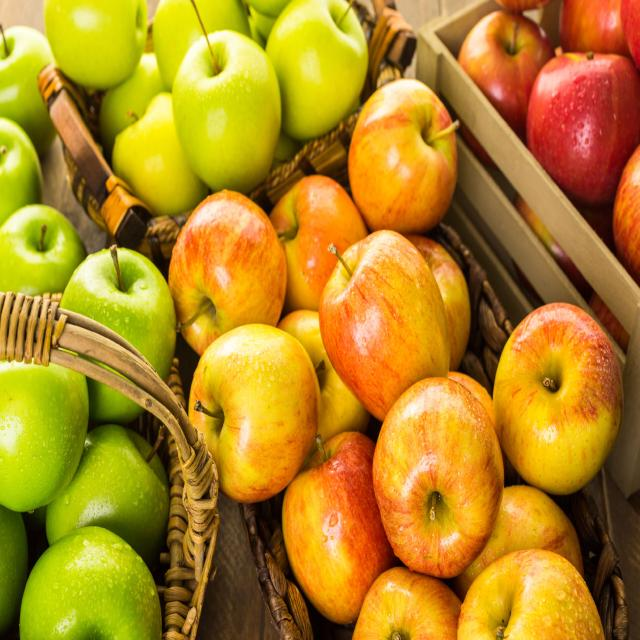Green Apple: (1, 290, 91, 511), (171, 23, 283, 192), (17, 526, 165, 640), (43, 1, 143, 90)
Red Apple: (371, 365, 506, 574), (492, 301, 627, 494), (186, 322, 322, 502), (524, 53, 640, 210), (454, 548, 620, 640), (347, 568, 464, 640)
